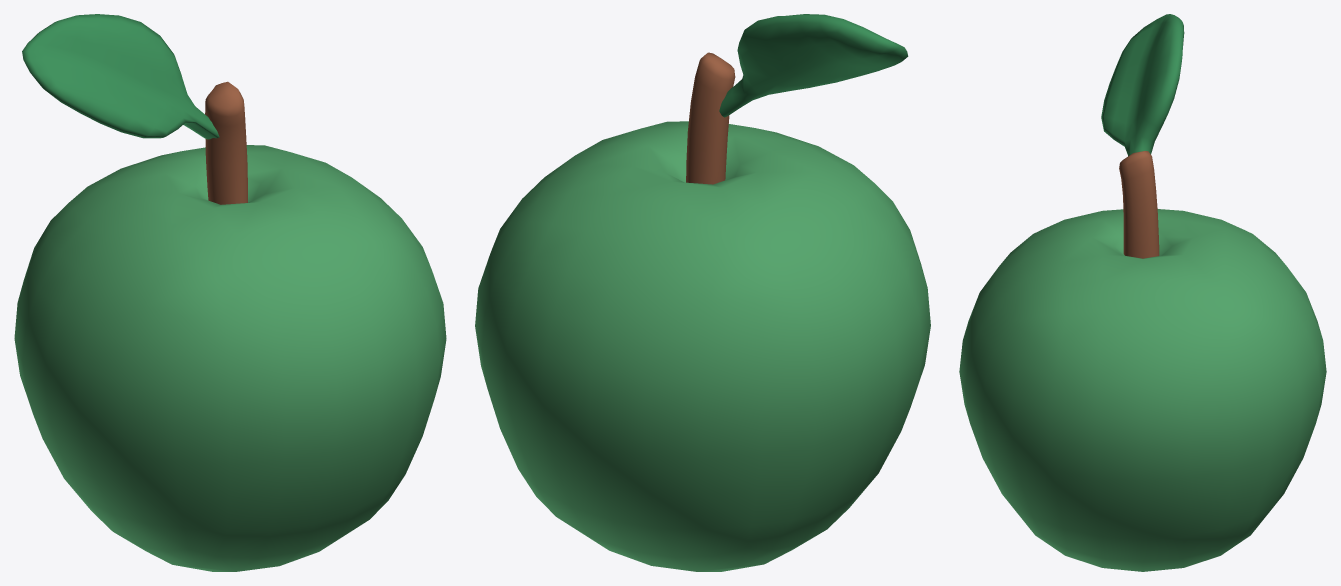
File: Apple_02.dae
The picture shows the model from 3 angles, left to right: view 1: azimuth 30°, elevation 25°; view 2: azimuth 150°, elevation 25°; view 3: azimuth 270°, elevation 25°; orthographic projection. The views are drawn at different scales.
Visible parts, largest first — view 1: Apple_02_LOD0; view 2: Apple_02_LOD0; view 3: Apple_02_LOD0.
Boxes of the visible parts, box(x1,y1,x2,y2) form: Apple_02_LOD0: box(14, 14, 446, 571); Apple_02_LOD0: box(475, 14, 930, 571); Apple_02_LOD0: box(959, 14, 1326, 571).
Size of what is drawn, in the model's own units: 4.14 by 4.02 by 5.66.
